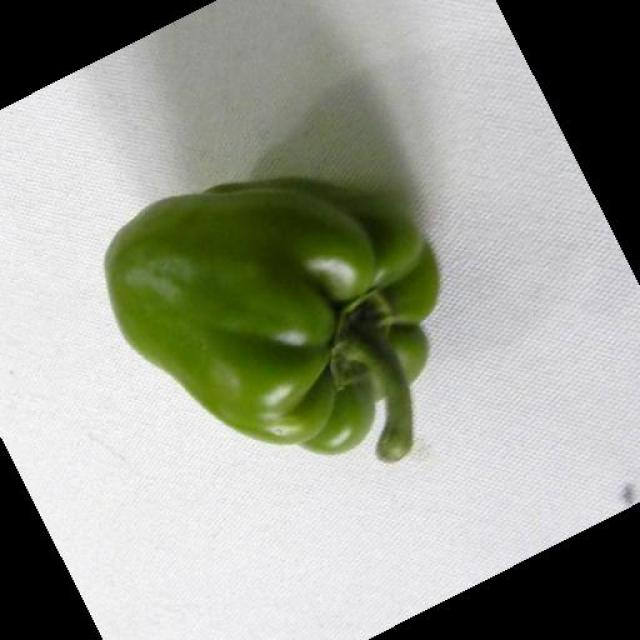Fresh_Capsicum: (91, 167, 448, 476)
